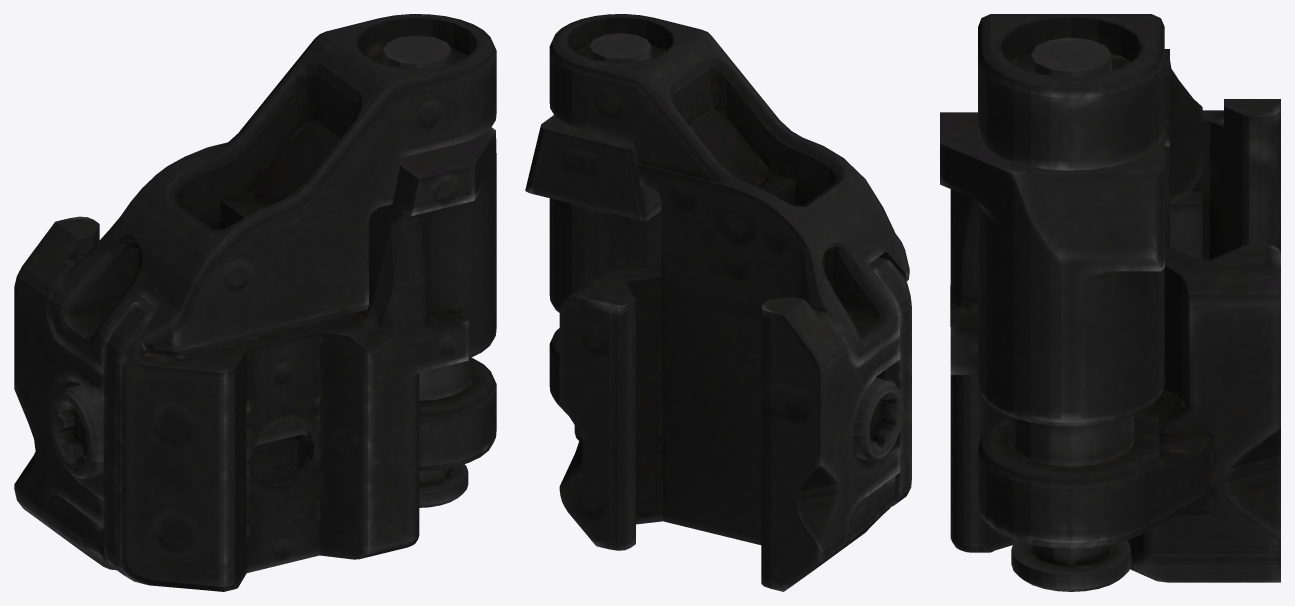
The picture shows the model from 3 angles, left to right: view 1: azimuth 30°, elevation 25°; view 2: azimuth 150°, elevation 25°; view 3: azimuth 270°, elevation 25°; orthographic projection. The views are drawn at different scales.
Visible parts, largest first — view 1: TW_6529348224cbe3c74a05e5c4_PZ_Import; view 2: TW_6529348224cbe3c74a05e5c4_PZ_Import; view 3: TW_6529348224cbe3c74a05e5c4_PZ_Import.
Part boxes in pixels (<box>): TW_6529348224cbe3c74a05e5c4_PZ_Import: <box>14,14,496,591</box>; TW_6529348224cbe3c74a05e5c4_PZ_Import: <box>525,14,911,591</box>; TW_6529348224cbe3c74a05e5c4_PZ_Import: <box>940,14,1280,591</box>.
Size of the model in its own units: 0.0235 by 0.0152 by 0.028.
Materials: 1 (1 with a texture image).
